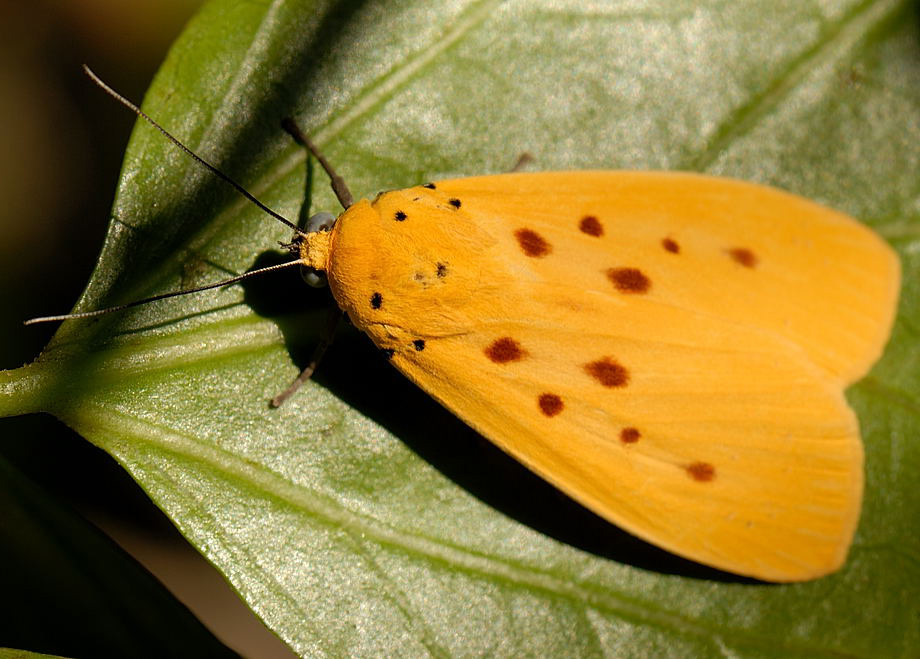Agape chloropyga: (24, 56, 904, 586)
moth: (22, 54, 902, 584)
